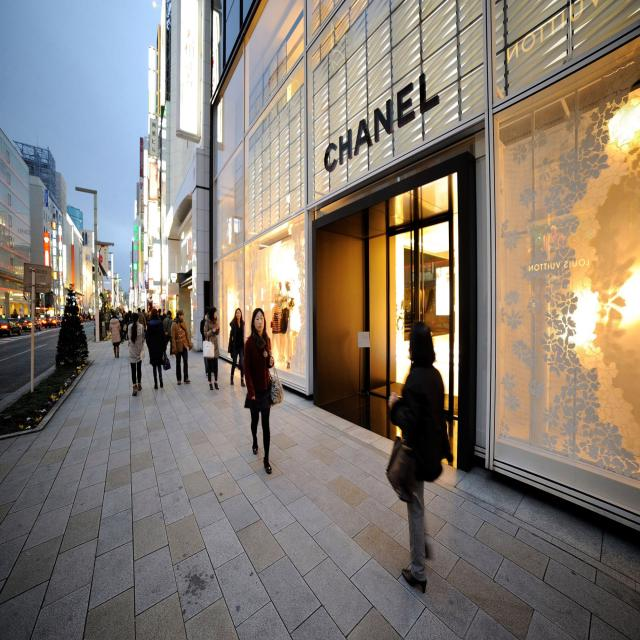body: (385, 318, 450, 597), (241, 306, 285, 474), (102, 304, 174, 338), (145, 308, 171, 390), (170, 308, 193, 386), (202, 306, 221, 392), (126, 311, 145, 397), (228, 307, 246, 389), (202, 306, 218, 378), (108, 314, 121, 359), (162, 310, 174, 356), (137, 307, 147, 331), (162, 308, 168, 319)
